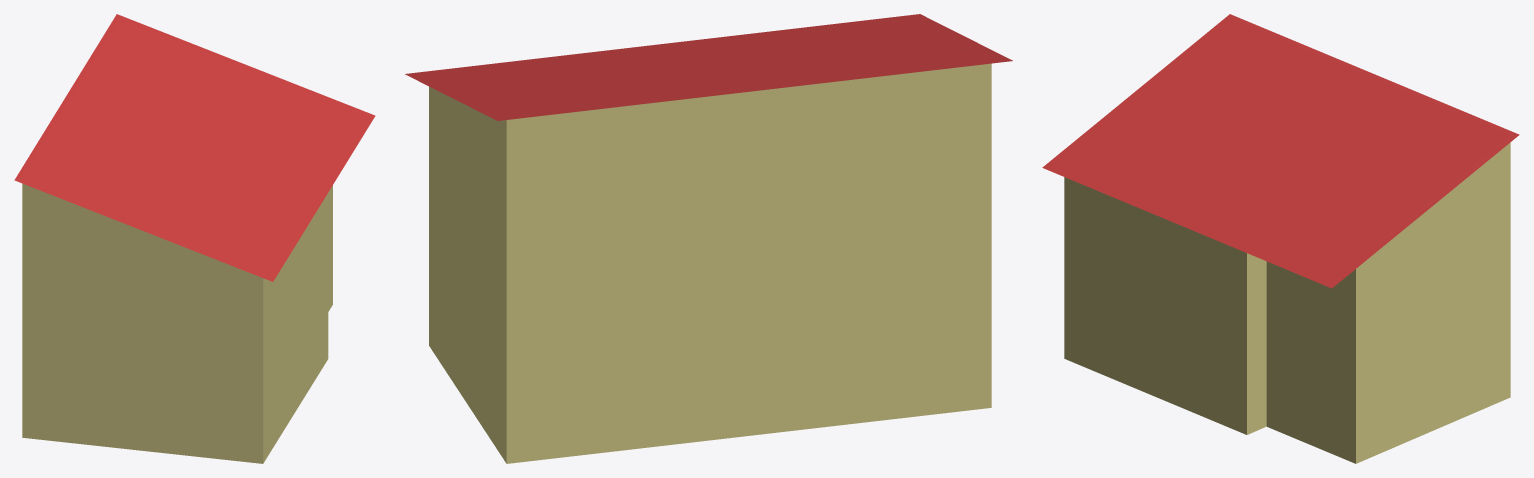
The picture shows the model from 3 angles, left to right: view 1: azimuth 30°, elevation 25°; view 2: azimuth 150°, elevation 25°; view 3: azimuth 270°, elevation 25°; orthographic projection. The views are drawn at different scales.
Size of the model in its own units: 18.63 by 18.68 by 11.38.
